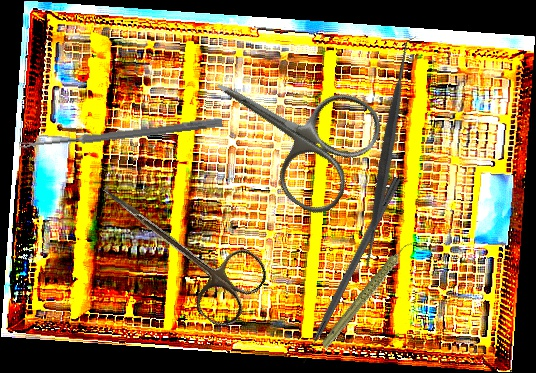Handpiece: (303, 240, 433, 350)
Hook Surgical: (298, 175, 401, 365)
Iris Scissors: (186, 31, 390, 223), (78, 160, 274, 334)
Spatula Surgical: (269, 36, 505, 273)
Surgical Spoon: (19, 116, 223, 152)
